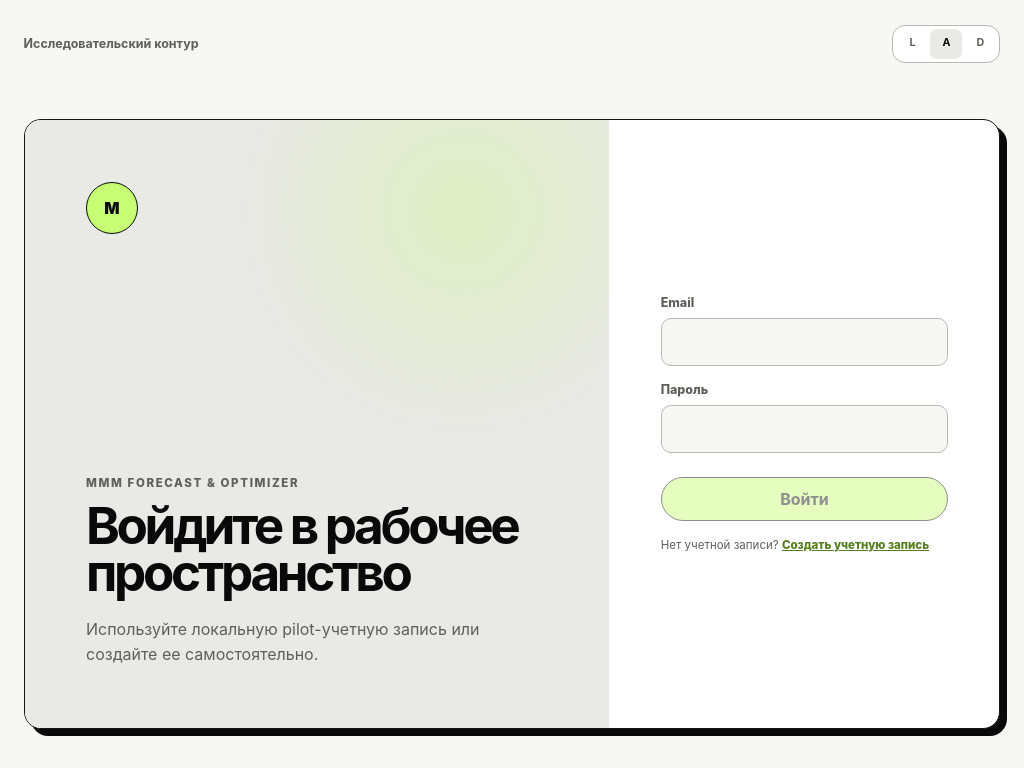
Test case: LoginView › switches to the registration form and validates password confirmation locally
Click the button "Создать учетную запись" at (856, 545), box [782,537,929,554]
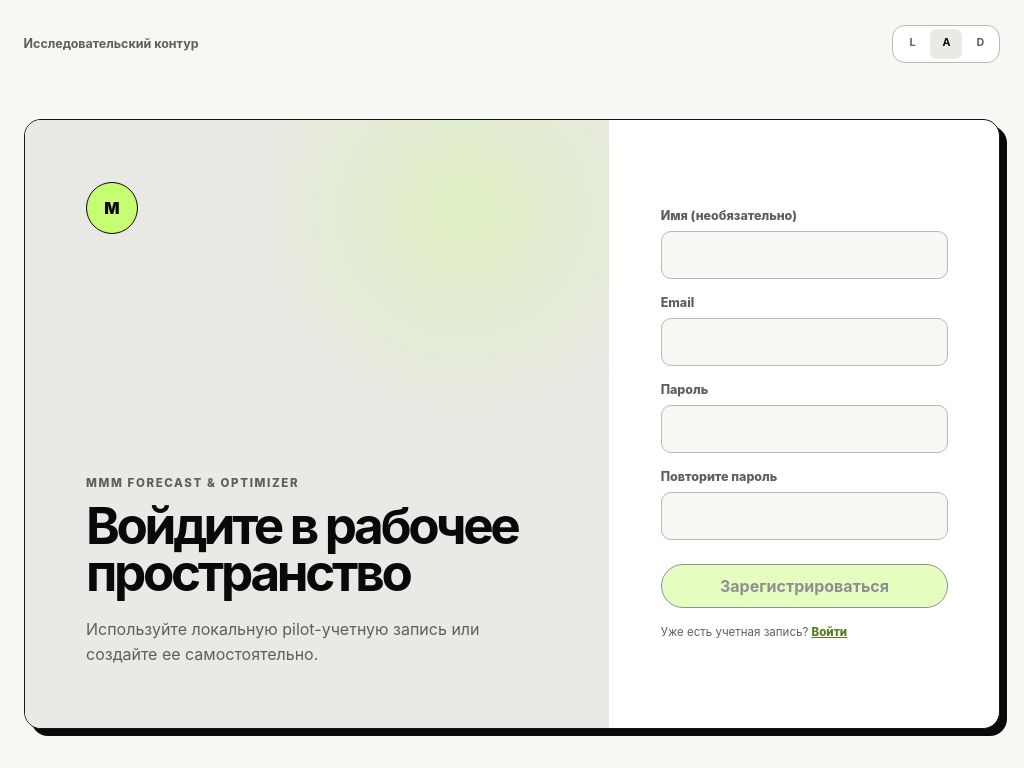
Type "new-user@example.org" into the field labelled "Email" at (804, 342), box [661,318,948,366]
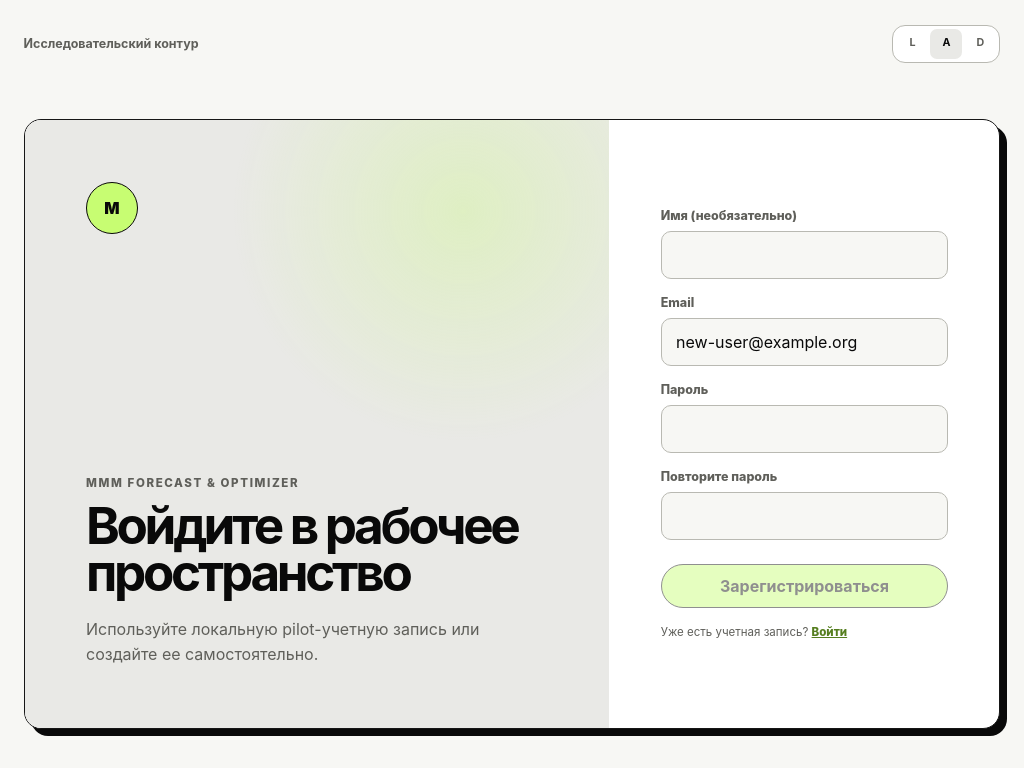
Type "New-password-2026" into the password field labelled "Пароль" at (804, 429), box [661,405,948,453]
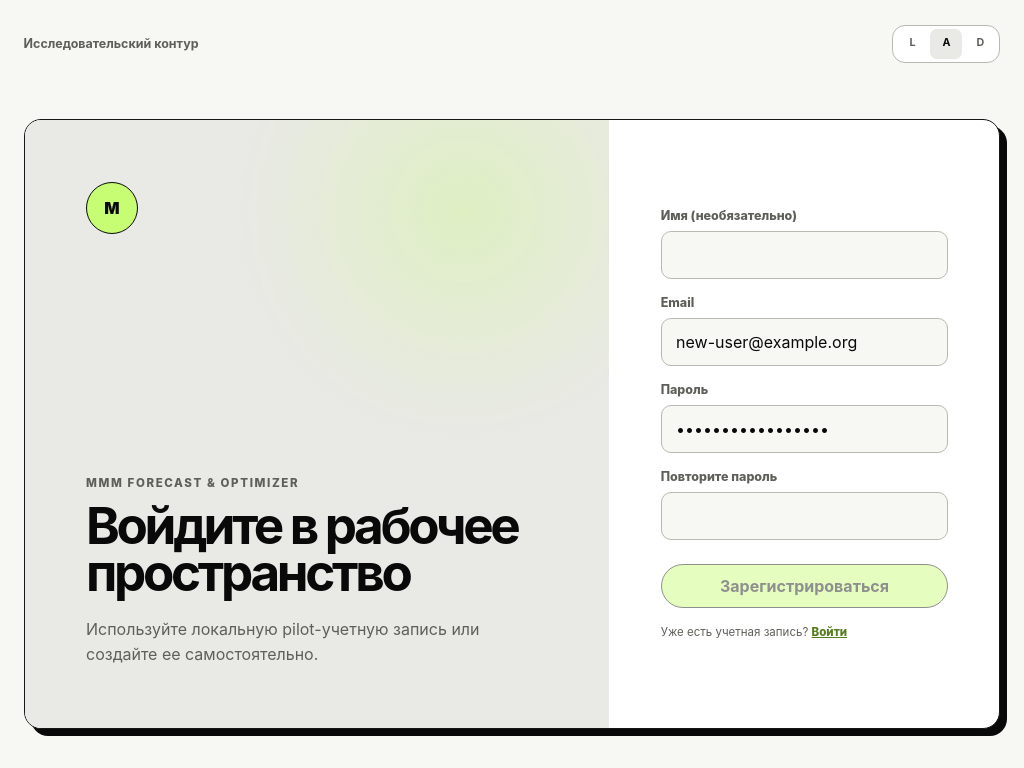
Type "Other-password-2026" into the password field labelled "Повторите пароль" at (804, 516), box [661,492,948,540]
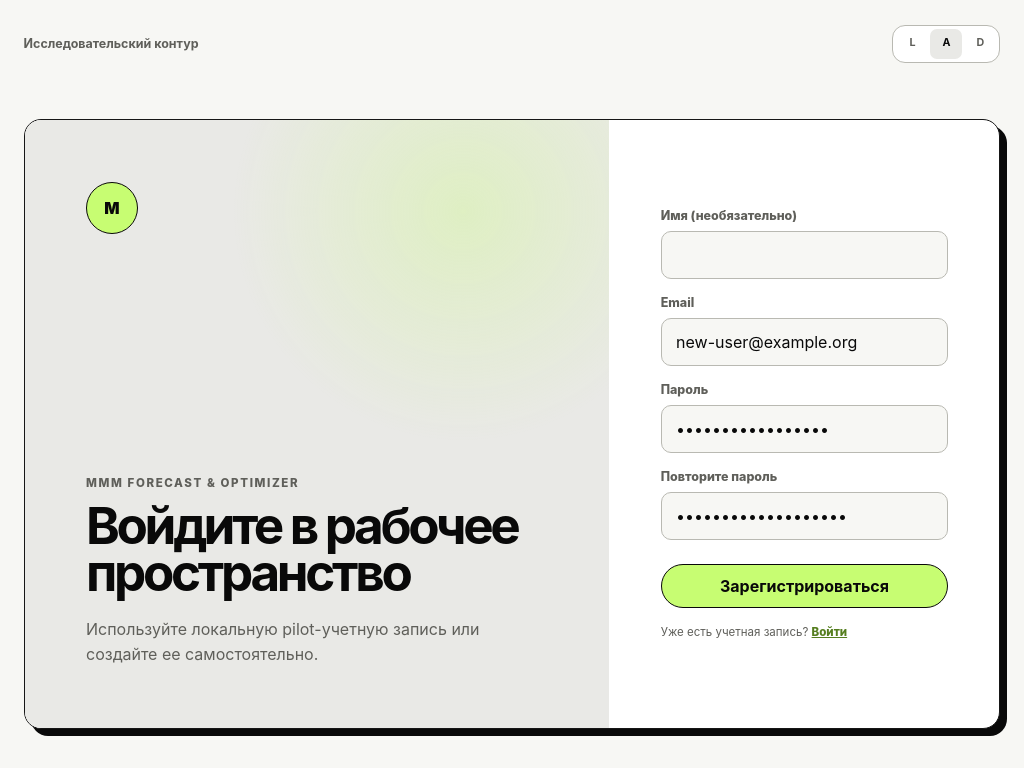
Submit the form "Зарегистрироваться", box [661,208,948,641]
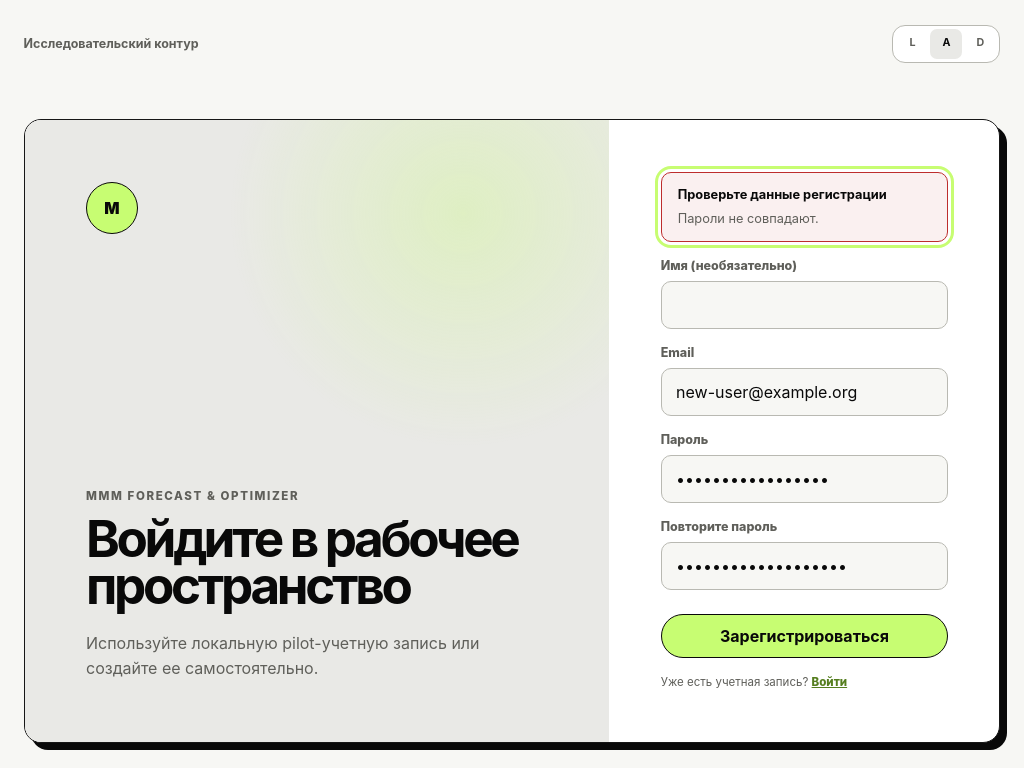
Now the message shows "Пароли не совпадают.", box [678,211,819,226]
